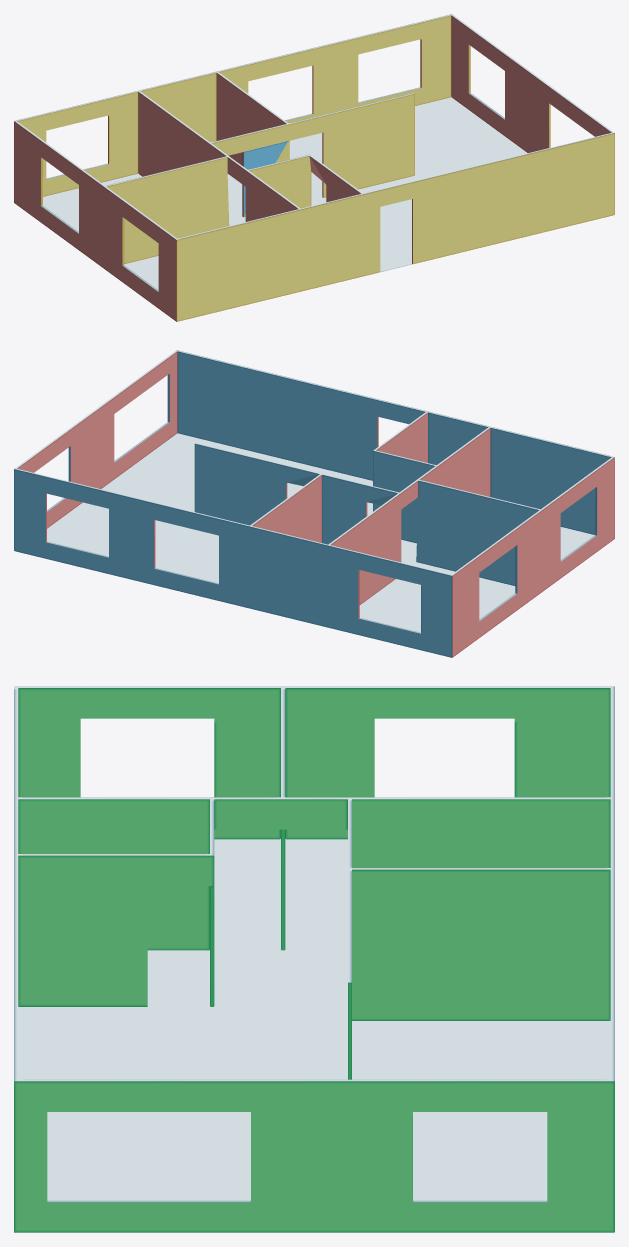
File: house_m1.fbx
The picture shows the model from 3 angles, top to bottom: view 1: azimuth 30°, elevation 25°; view 2: azimuth 150°, elevation 25°; view 3: azimuth 270°, elevation 25°; orthographic projection. The views are drawn at different scales.
Visible parts, largest first — view 1: Walls, Ground; view 2: Walls, Ground; view 3: Walls, Ground.
Part boxes in pixels (x1,y1,x2,y2): Walls: [14, 14, 614, 321]; Ground: [43, 97, 527, 289]; Walls: [14, 350, 614, 657]; Ground: [47, 433, 594, 632]; Walls: [14, 686, 614, 1232]; Ground: [18, 839, 614, 1232].
Size of the model in its own units: 1400 by 250 by 900.
Materials: 2 (2 with a texture image).
